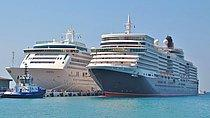Ship: (85, 10, 204, 100), (4, 26, 106, 100)
